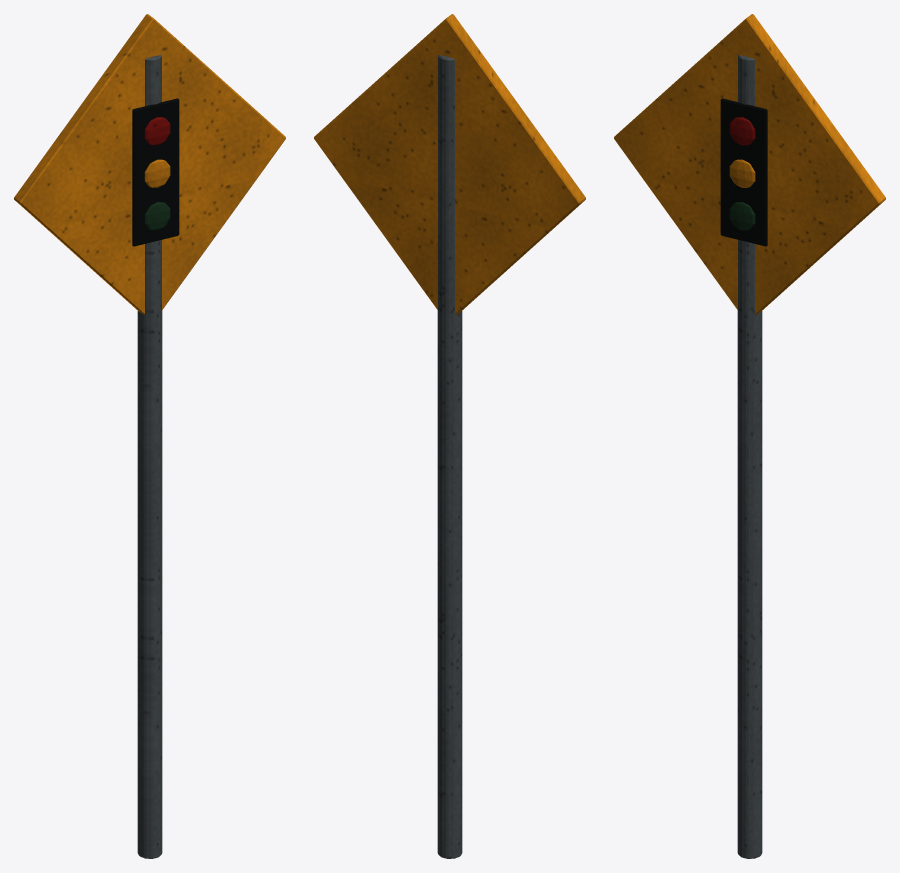
File: PROP-373B78893E1E_lod1.glb
3 renders of one model, left to right at view 1: azimuth 30°, elevation 25°; view 2: azimuth 150°, elevation 25°; view 3: azimuth 330°, elevation 25°, orthographic.
Visible parts, largest first — view 1: shaped_sign_plate.001, sign_post.001, traffic_symbol.001, traffic_symbol_lens.004, traffic_symbol_lens.005, traffic_symbol_lens.003; view 2: shaped_sign_plate.001, sign_post.001; view 3: shaped_sign_plate.001, sign_post.001, traffic_symbol.001, traffic_symbol_lens.004, traffic_symbol_lens.005, traffic_symbol_lens.003.
Part boxes in pixels (box(x1,y1,x2,y2)): shaped_sign_plate.001: box(14, 14, 285, 314); sign_post.001: box(137, 55, 162, 858); traffic_symbol.001: box(132, 98, 179, 246); traffic_symbol_lens.004: box(144, 159, 170, 187); traffic_symbol_lens.005: box(144, 202, 170, 230); traffic_symbol_lens.003: box(144, 117, 170, 145); shaped_sign_plate.001: box(314, 14, 585, 314); sign_post.001: box(437, 55, 462, 858); shaped_sign_plate.001: box(614, 14, 885, 314); sign_post.001: box(737, 55, 762, 858); traffic_symbol.001: box(720, 98, 767, 246); traffic_symbol_lens.004: box(729, 159, 755, 187); traffic_symbol_lens.005: box(729, 202, 755, 230); traffic_symbol_lens.003: box(729, 117, 755, 145).
Size of the model in its own units: 0.8526 by 2.57 by 0.0825.
5 materials, 5 textured.
